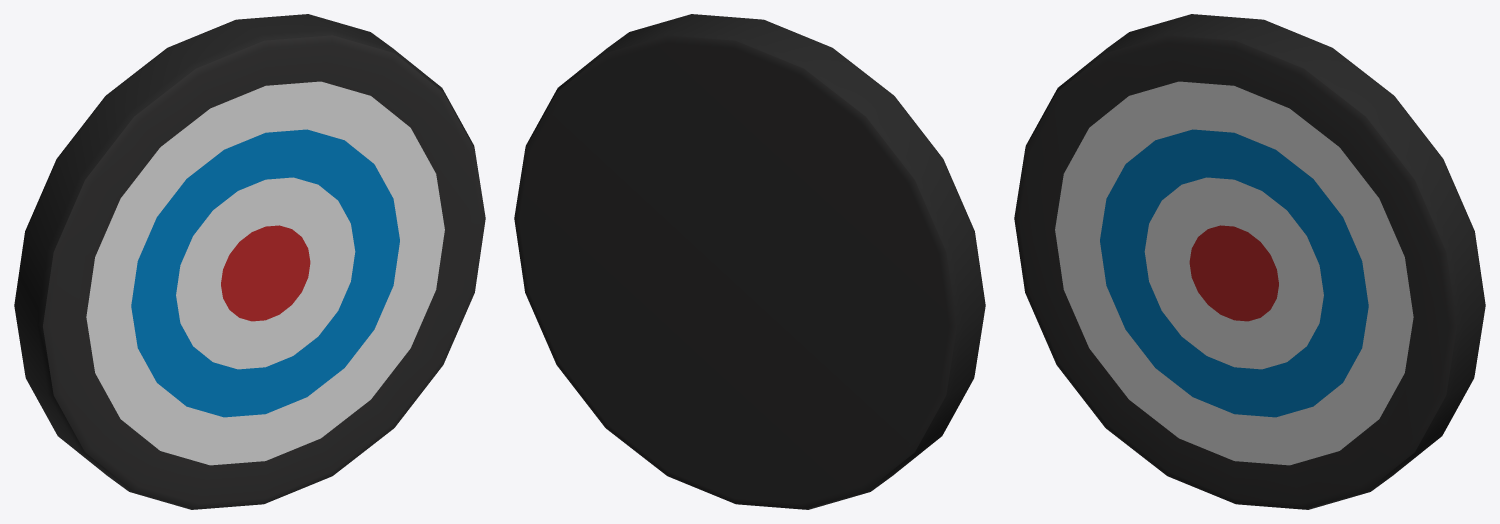
The model's file is dart_board.fbx.
3 renders of one model, left to right at view 1: azimuth 30°, elevation 25°; view 2: azimuth 150°, elevation 25°; view 3: azimuth 330°, elevation 25°, orthographic.
Visible parts, largest first — view 1: dart_board; view 2: dart_board; view 3: dart_board.
Part boxes in pixels (left/top/right/bottom): dart_board: left=14, top=14, right=485, bottom=509; dart_board: left=514, top=14, right=985, bottom=509; dart_board: left=1014, top=14, right=1485, bottom=509.
Bounding box in the file's own units: 15.08 × 15.08 × 1.83.
